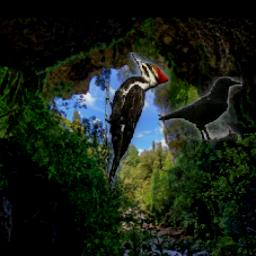Crow: (157, 77, 241, 143)
Woodpecker: (105, 52, 170, 194)
